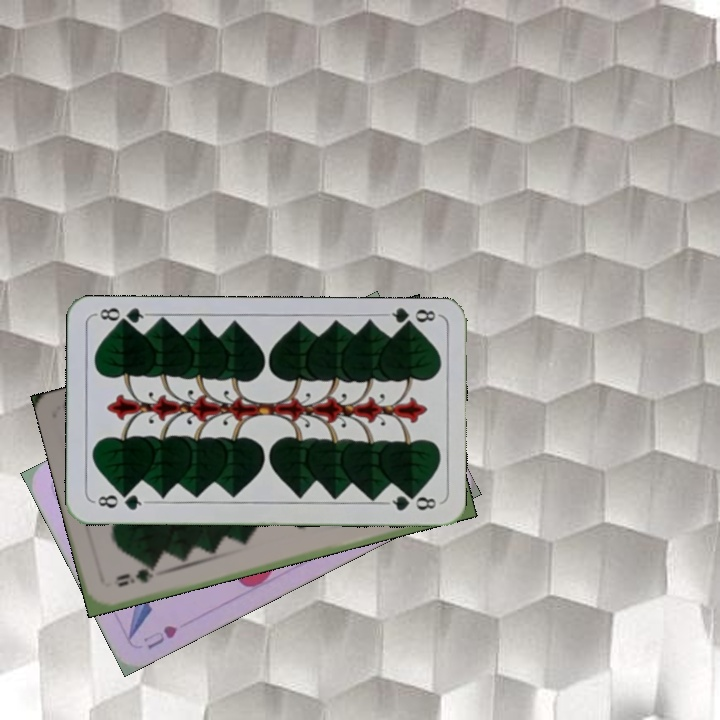G8: (382, 305, 441, 332), (90, 489, 149, 513)
G9: (112, 562, 162, 589)
HU: (139, 621, 180, 652)
